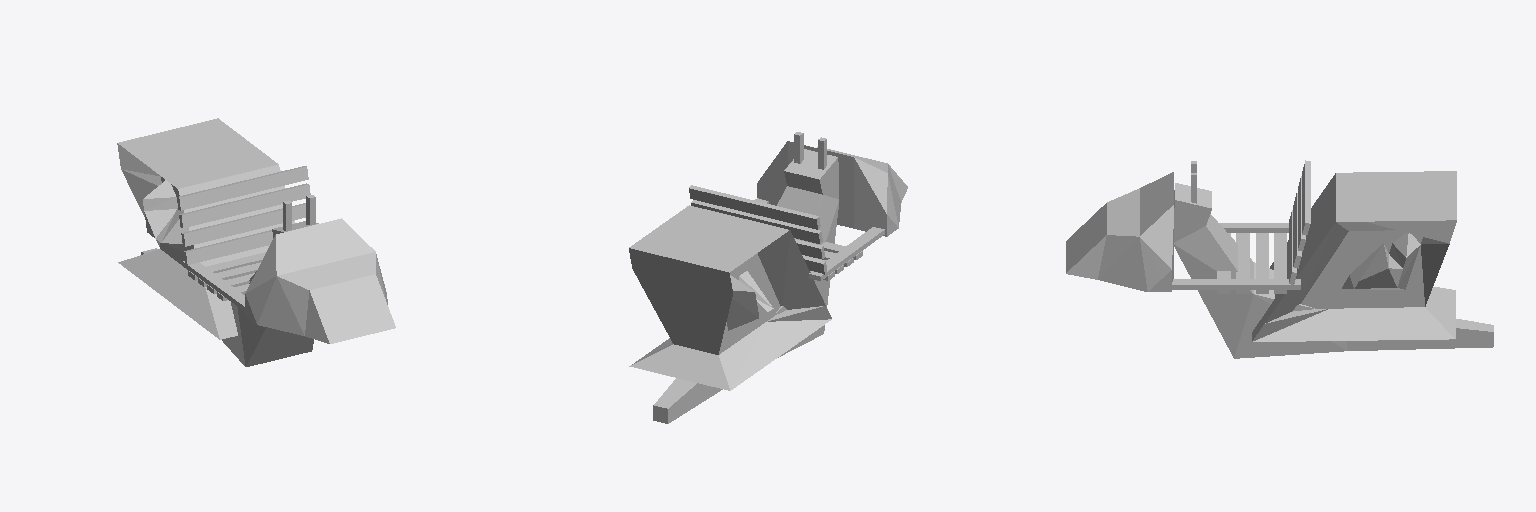
File: Улитка.obj
3 renders of one model, left to right at view 1: azimuth 30°, elevation 25°; view 2: azimuth 150°, elevation 25°; view 3: azimuth 270°, elevation 25°, orthographic.
Parts seen in each view (by area): view 1: Cube; view 2: Cube; view 3: Cube.
Part boxes in pixels (left/top/right/bottom): Cube: left=117, top=118, right=395, bottom=366; Cube: left=629, top=132, right=907, bottom=423; Cube: left=1066, top=160, right=1493, bottom=358.
Bounding box in the file's own units: 3.9 × 5.06 × 11.18.